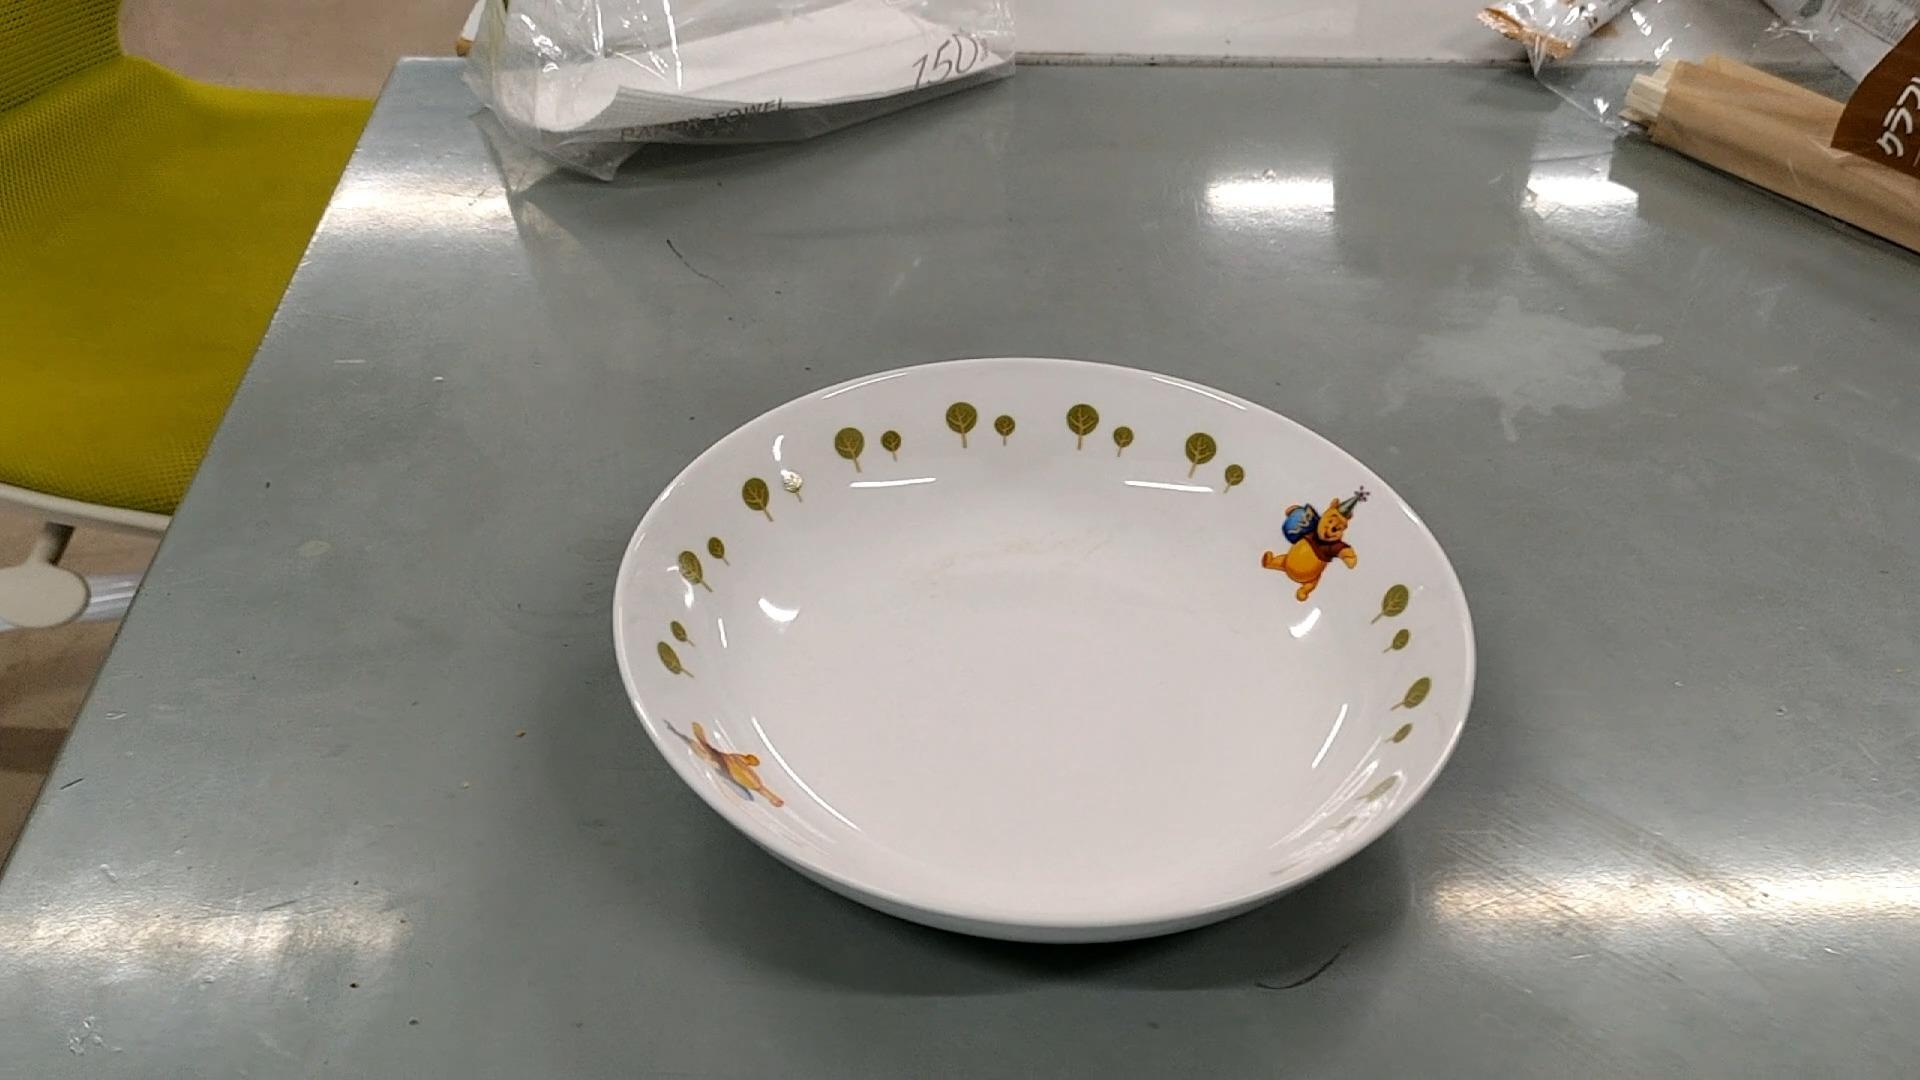plate: (616, 353, 1476, 948)
